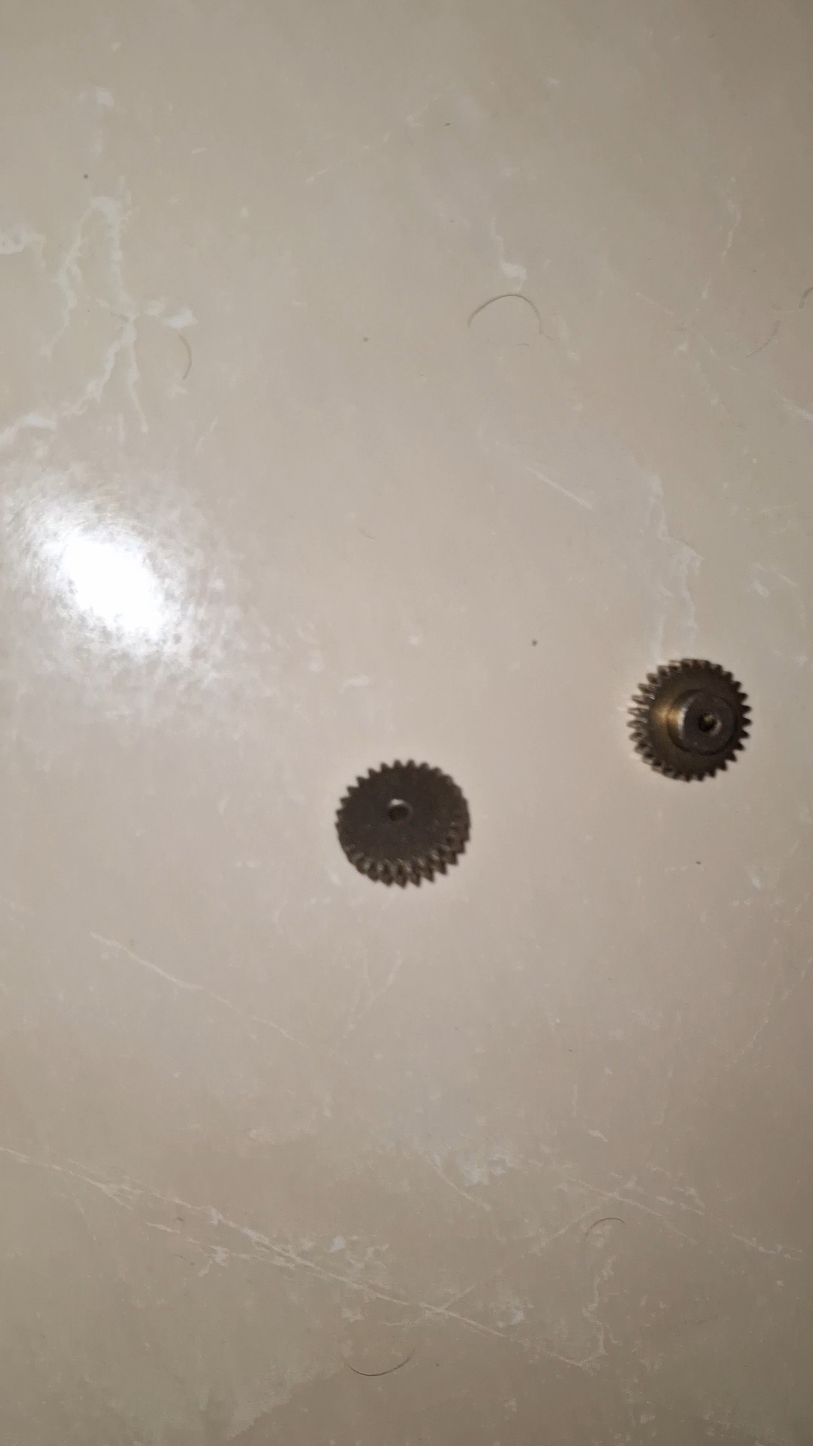spur gear: (336, 761, 470, 886), (629, 659, 750, 781)
